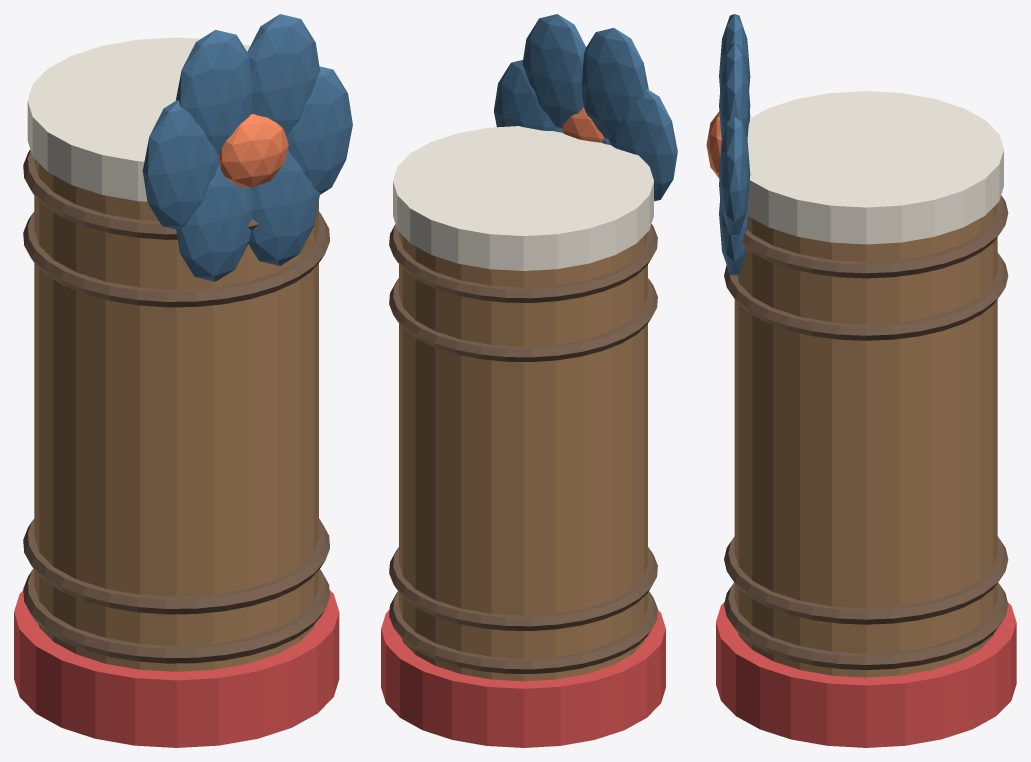
The model's file is writing_hanko.glb.
3 views of the same model, side by side, from view 1: azimuth 30°, elevation 25°; view 2: azimuth 150°, elevation 25°; view 3: azimuth 270°, elevation 25° (orthographic). The views are drawn at different scales.
Visible parts, largest first — view 1: Carved wood hanko seal, Red ink stamped rubber base, Inlaid bone crest cap, Hanko top emblem_petal03, Carved seal shaft line.001, Carved seal shaft line, Carved seal shaft line.002, Hanko top emblem_petal02, Hanko top emblem_petal01, Hanko top emblem_petal04, Hanko top emblem_petal05, Hanko top emblem_petal00 (+2 smaller); view 2: Carved wood hanko seal, Inlaid bone crest cap, Red ink stamped rubber base, Hanko top emblem_petal01, Hanko top emblem_petal02, Carved seal shaft line.001, Carved seal shaft line, Carved seal shaft line.002, Carved seal shaft line.003, Hanko top emblem_petal03, Hanko top emblem_petal00, Hanko top emblem_center; view 3: Carved wood hanko seal, Inlaid bone crest cap, Red ink stamped rubber base, Carved seal shaft line.001, Carved seal shaft line, Carved seal shaft line.002, Carved seal shaft line.003, Hanko top emblem_petal00, Hanko top emblem_petal01, Hanko top emblem_petal05, Hanko top emblem_petal02, Hanko top emblem_center.
Part boxes in pixels (<box>): Carved wood hanko seal: <box>34,159,318,671</box>; Red ink stamped rubber base: <box>14,590,339,747</box>; Inlaid bone crest cap: <box>27,37,250,201</box>; Hanko top emblem_petal03: <box>142,100,219,229</box>; Carved seal shaft line.001: <box>23,518,329,614</box>; Carved seal shaft line: <box>23,569,329,663</box>; Carved seal shaft line.002: <box>23,211,329,307</box>; Hanko top emblem_petal02: <box>176,29,251,154</box>; Hanko top emblem_petal01: <box>247,14,320,136</box>; Hanko top emblem_petal04: <box>176,164,251,281</box>; Hanko top emblem_petal05: <box>248,149,320,265</box>; Hanko top emblem_petal00: <box>286,66,352,194</box>; Carved wood hanko seal: <box>399,232,647,681</box>; Inlaid bone crest cap: <box>393,126,653,270</box>; Red ink stamped rubber base: <box>381,609,665,747</box>; Hanko top emblem_petal01: <box>522,14,586,128</box>; Hanko top emblem_petal02: <box>582,28,648,139</box>; Carved seal shaft line.001: <box>389,547,657,630</box>; Carved seal shaft line: <box>389,591,657,673</box>; Carved seal shaft line.002: <box>389,278,657,361</box>; Carved seal shaft line.003: <box>389,224,657,302</box>; Hanko top emblem_petal03: <box>608,89,677,201</box>; Hanko top emblem_petal00: <box>494,60,556,130</box>; Hanko top emblem_center: <box>561,108,604,142</box>; Carved wood hanko seal: <box>734,203,997,677</box>; Inlaid bone crest cap: <box>746,91,1003,244</box>; Red ink stamped rubber base: <box>716,602,1016,747</box>; Carved seal shaft line.001: <box>724,536,1008,624</box>; Carved seal shaft line: <box>724,582,1008,669</box>; Carved seal shaft line.002: <box>724,253,1008,340</box>; Carved seal shaft line.003: <box>742,195,1008,278</box>; Hanko top emblem_petal00: <box>719,116,750,236</box>; Hanko top emblem_petal01: <box>719,43,750,138</box>; Hanko top emblem_petal05: <box>719,195,747,275</box>; Hanko top emblem_petal02: <box>719,14,750,90</box>; Hanko top emblem_center: <box>706,111,721,178</box>.
Bounding box in the file's own units: 0.8102 × 1.95 × 0.8355.
